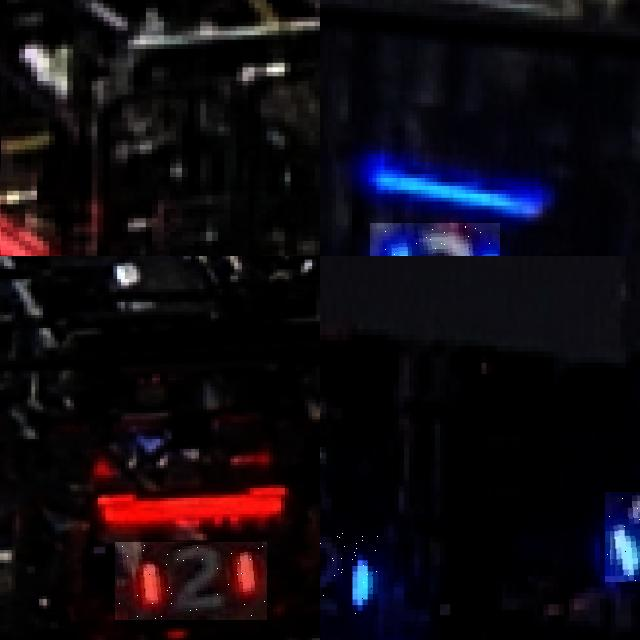B2: (320, 531, 378, 615), (370, 223, 499, 256), (605, 492, 640, 582)
R2: (115, 542, 267, 620)
